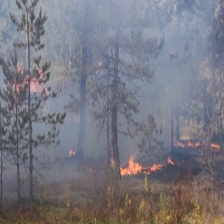fire: (119, 152, 172, 178), (173, 140, 224, 156)
smoke: (3, 2, 224, 139)
